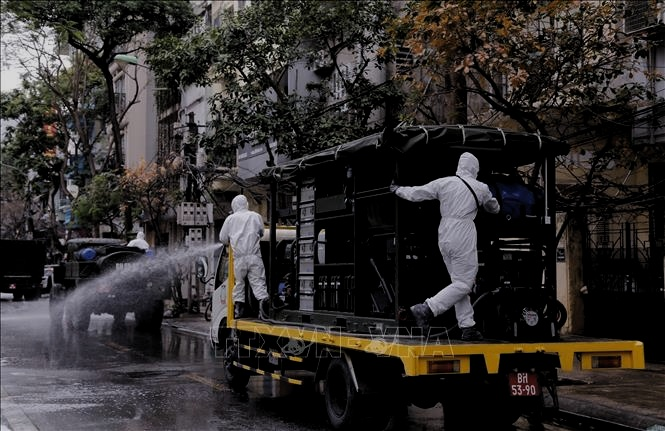plate: (502, 369, 540, 399)
